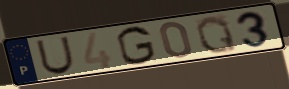0: (157, 20, 194, 60)
3: (235, 8, 276, 51)
4: (82, 31, 115, 70)
G: (115, 25, 158, 67)
Q: (194, 15, 240, 55)
U: (34, 35, 76, 76)
